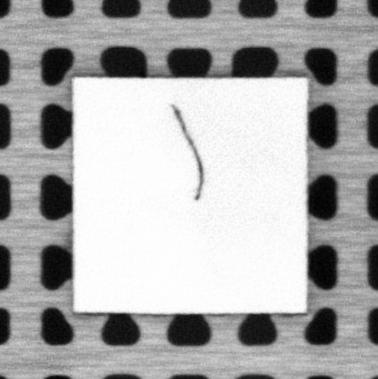DIE_INK: (169, 101, 203, 201)
